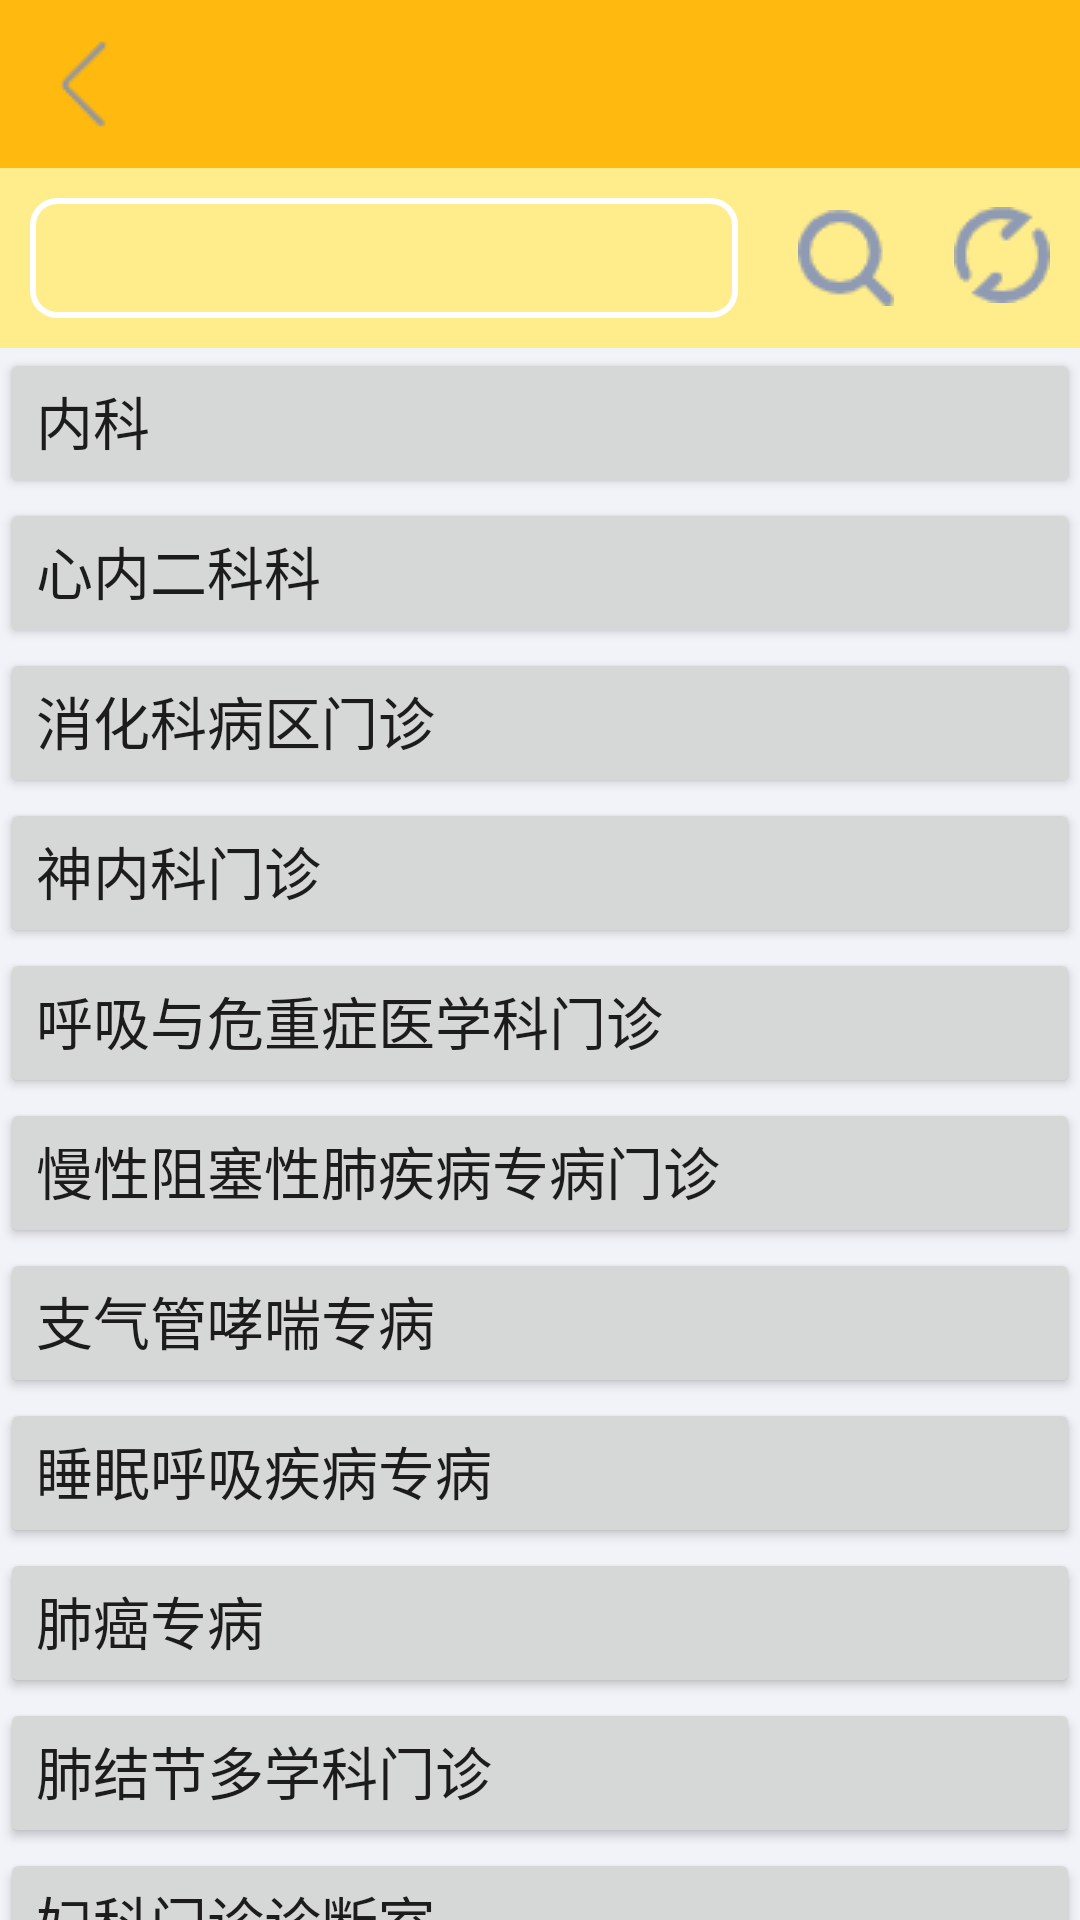

Icon click points for this 1080 × 1920 phone screenshot, format (x,y):
flush: (1002,255)
search: (846,258)
